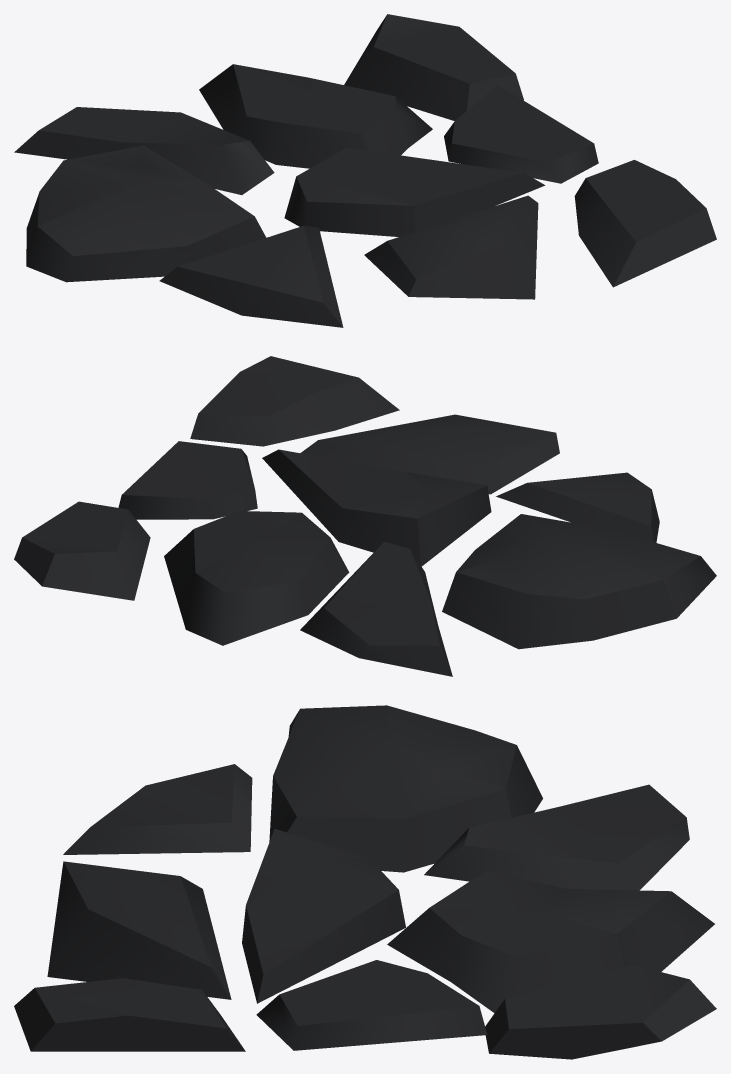
Rendered from Stone_Path_Ending_L_3.fbx.
3 renders of one model, top to bottom at view 1: azimuth 30°, elevation 25°; view 2: azimuth 150°, elevation 25°; view 3: azimuth 270°, elevation 25°, orthographic. The views are drawn at different scales.
Visible parts, largest first — view 1: Stone_Path_Ending_L_3; view 2: Stone_Path_Ending_L_3; view 3: Stone_Path_Ending_L_3.
Part boxes in pixels (left/top/right/bottom): Stone_Path_Ending_L_3: left=14, top=14, right=716, bottom=327; Stone_Path_Ending_L_3: left=14, top=356, right=716, bottom=676; Stone_Path_Ending_L_3: left=14, top=705, right=716, bottom=1059.
Size of the model in its own units: 102 by 15.07 by 96.34.
